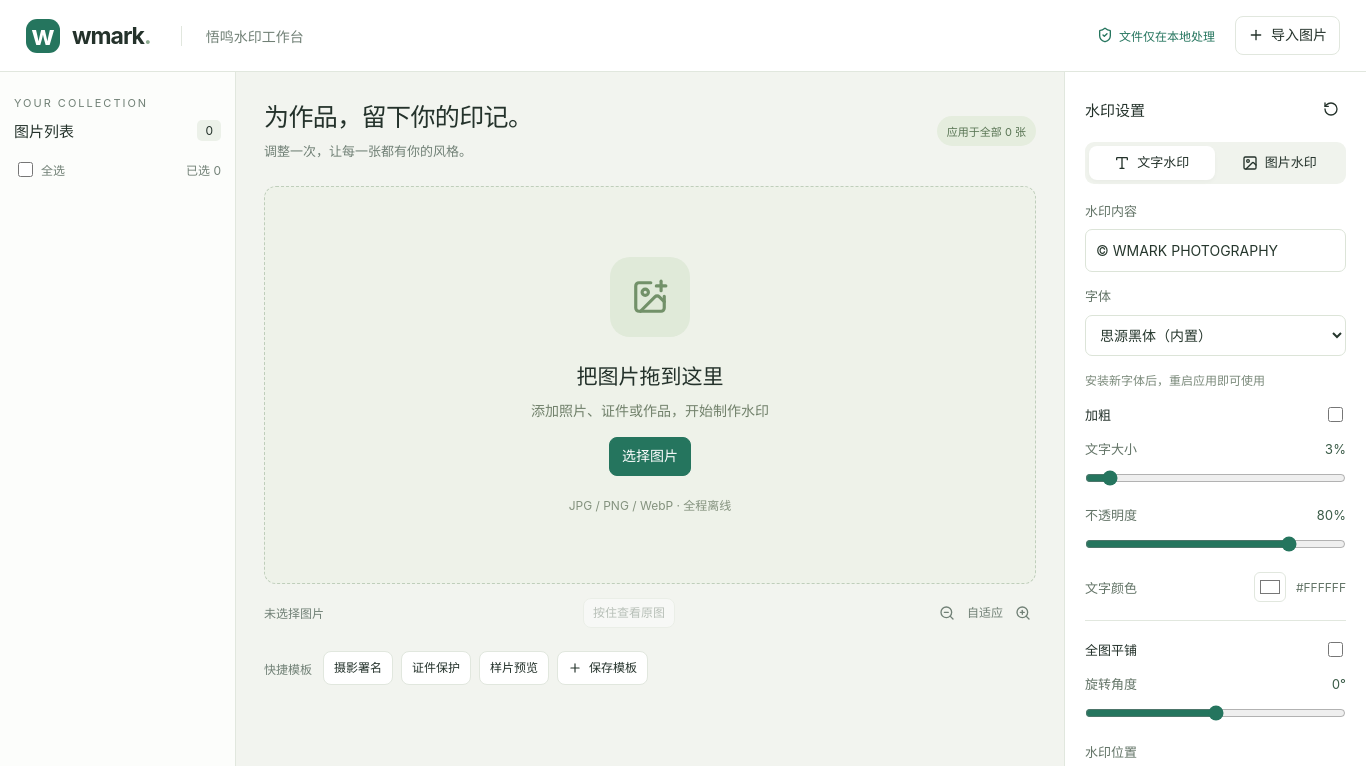
Test: R03/R04 changes preview parameters using certificate preset
Click the button "选择图片": (650, 456) [609,437,691,476]
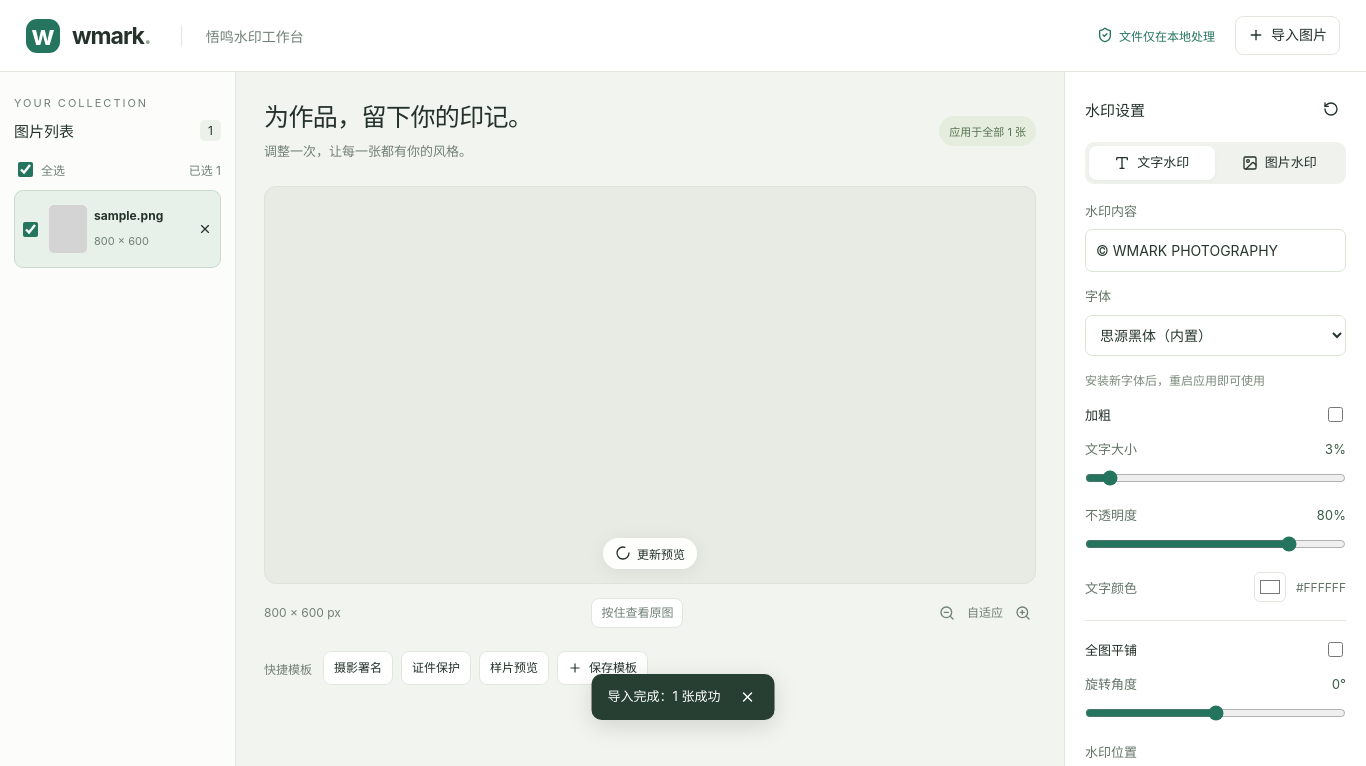
Now the text "800 × 600 px" is shown, box [264,605,341,620]
Click the button "证件保护": (436, 668) [401,651,471,685]
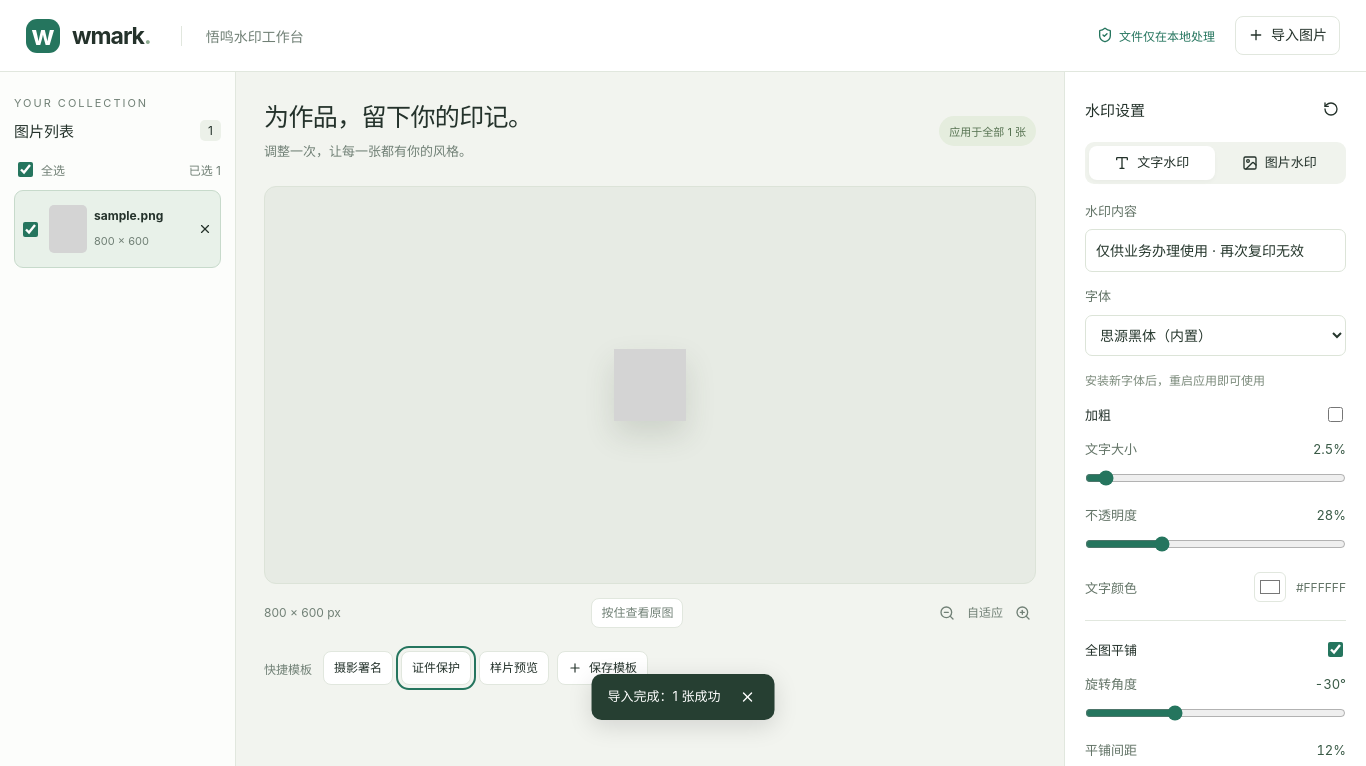
Now the checkbox labelled "全图平铺" is checked, box [1328,642,1343,657]
Now the field labelled "水印内容" holds "仅供业务办理使用 · 再次复印无效", box [1085,229,1346,272]
